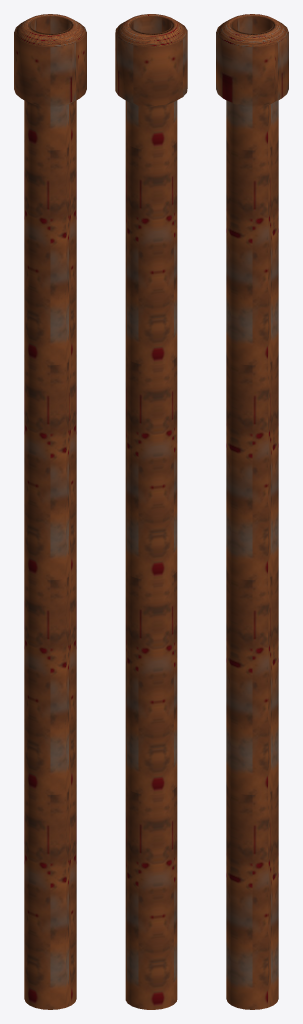
The model's file is 鉄パイプ_pipe.glb.
3 views of the same model, side by side, from view 1: azimuth 90°, elevation 25°; view 2: azimuth 150°, elevation 25°; view 3: azimuth 270°, elevation 25° (orthographic).
Parts seen in each view (by area): view 1: pipe; view 2: pipe; view 3: pipe.
Part boxes in pixels (x1=…): pipe: x1=14, y1=14, x2=86, y2=1009; pipe: x1=115, y1=14, x2=187, y2=1009; pipe: x1=216, y1=14, x2=288, y2=1009.
Size of the model in its own units: 0.046 by 0.68 by 0.046.
Materials: 1 (1 with a texture image).
